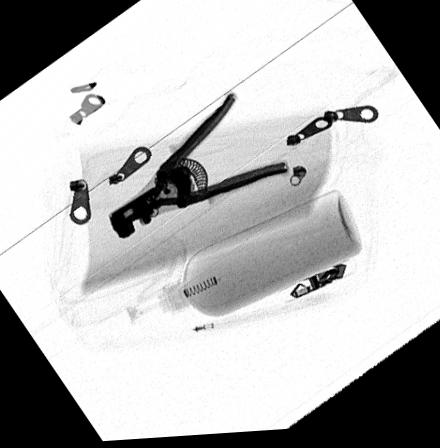Pliers: (106, 92, 289, 241)
